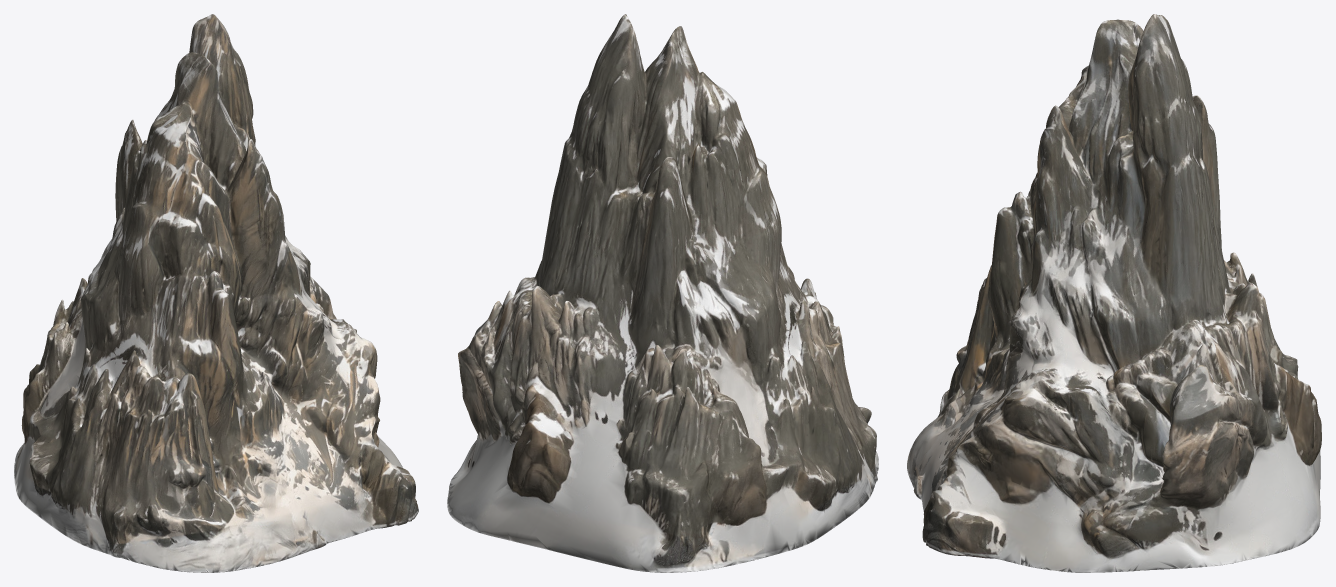
File: ice_peak.glb
3 views of the same model, side by side, from view 1: azimuth 30°, elevation 25°; view 2: azimuth 150°, elevation 25°; view 3: azimuth 270°, elevation 25° (orthographic). The views are drawn at different scales.
Parts seen in each view (by area): view 1: ice_peak; view 2: ice_peak; view 3: ice_peak.
Boxes of the visible parts, <box> form: ice_peak: <box>14,14,418,572</box>; ice_peak: <box>447,14,878,572</box>; ice_peak: <box>907,14,1321,572</box>.
Size of the model in its own units: 147 by 190 by 148.
Materials: 1 (1 with a texture image).
